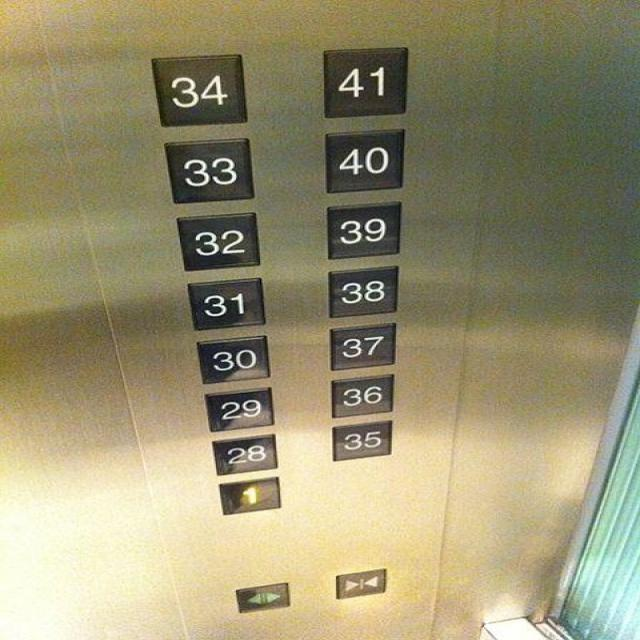1: (216, 478, 281, 516)
28: (211, 434, 276, 476)
29: (204, 386, 273, 434)
30: (193, 335, 270, 384)
31: (184, 277, 264, 330)
32: (172, 211, 260, 271)
33: (161, 136, 252, 206)
34: (149, 51, 248, 126)
35: (331, 418, 392, 462)
36: (328, 372, 393, 418)
37: (325, 319, 396, 371)
38: (327, 265, 401, 319)
39: (324, 198, 403, 262)
40: (322, 128, 402, 192)
41: (322, 46, 407, 120)
close: (334, 568, 386, 600)
open: (233, 581, 291, 612)
